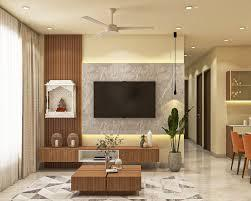TV: (90, 77, 158, 123)
chair: (228, 129, 244, 172), (242, 134, 251, 180)
console: (41, 143, 166, 162)
door: (196, 75, 203, 147), (205, 70, 211, 153), (184, 79, 190, 138)
fan: (79, 3, 157, 40)
light: (45, 132, 64, 147), (19, 0, 34, 16), (67, 134, 81, 148), (43, 23, 57, 35), (181, 1, 195, 11), (238, 22, 249, 33), (188, 44, 200, 53), (219, 34, 232, 42), (183, 51, 190, 64), (173, 25, 181, 30)
table: (71, 162, 145, 198), (228, 122, 251, 133)
